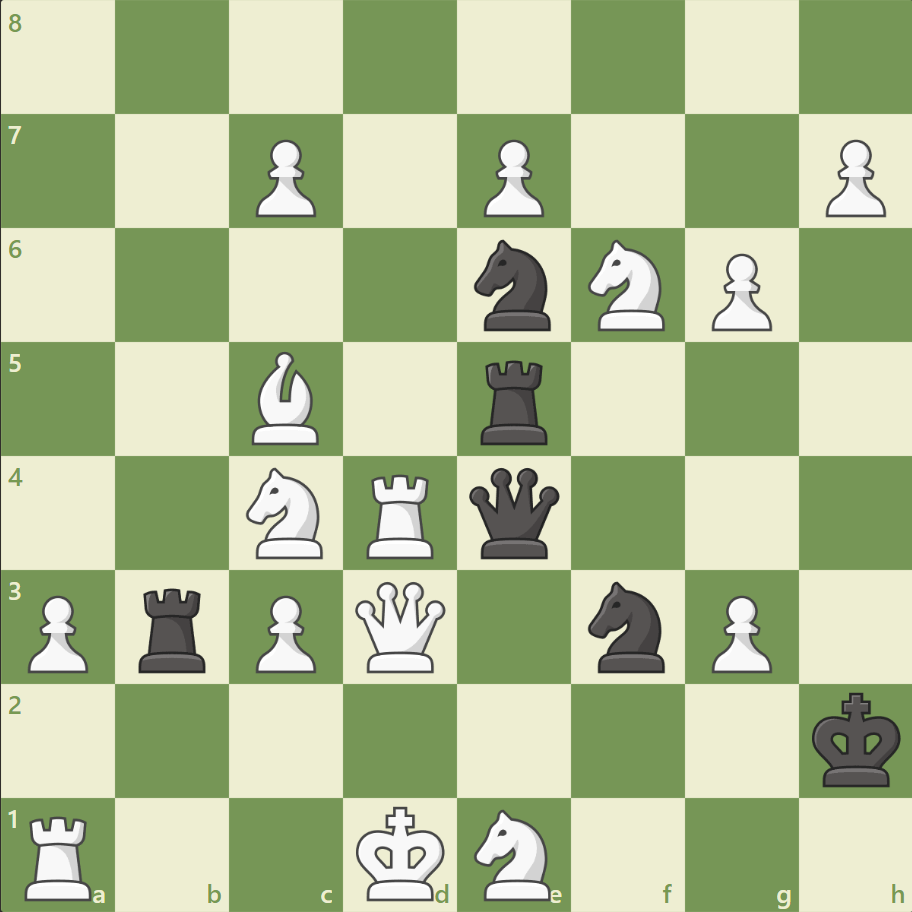B: (244, 347, 328, 449)
K: (351, 798, 451, 906)
N: (579, 234, 676, 337), (238, 461, 335, 564), (465, 802, 562, 904)
P: (247, 132, 322, 223), (474, 132, 549, 223), (701, 246, 776, 337), (20, 586, 95, 677), (247, 586, 322, 677), (701, 586, 776, 677), (815, 132, 889, 223)
Q: (351, 576, 450, 676)
R: (19, 806, 102, 904), (360, 466, 442, 563)
k: (806, 685, 906, 793)
n: (465, 234, 562, 337), (579, 575, 676, 677)
q: (464, 463, 563, 562)
r: (473, 352, 556, 449), (133, 579, 215, 676)
